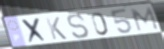0: (91, 12, 110, 37)
5: (109, 7, 135, 35)
K: (44, 16, 69, 41)
M: (130, 6, 160, 33)
S: (66, 13, 91, 40)
X: (19, 17, 50, 45)
